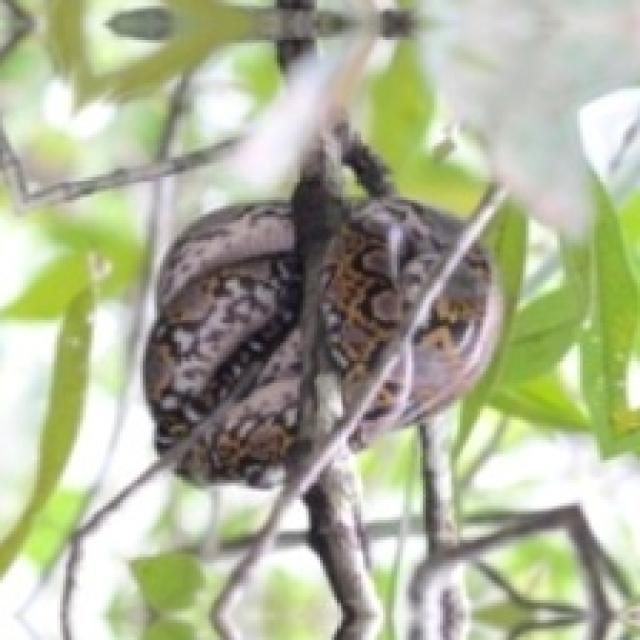reticulated python: (143, 203, 300, 483), (320, 134, 460, 411), (349, 246, 500, 446)
